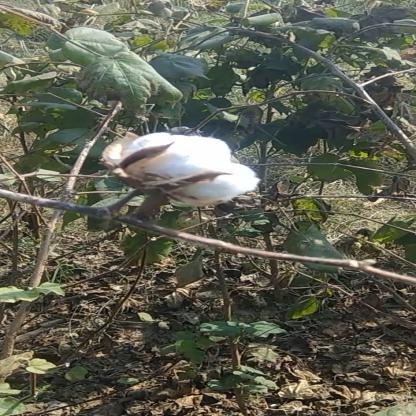cotton_ready: (102, 123, 265, 225)
